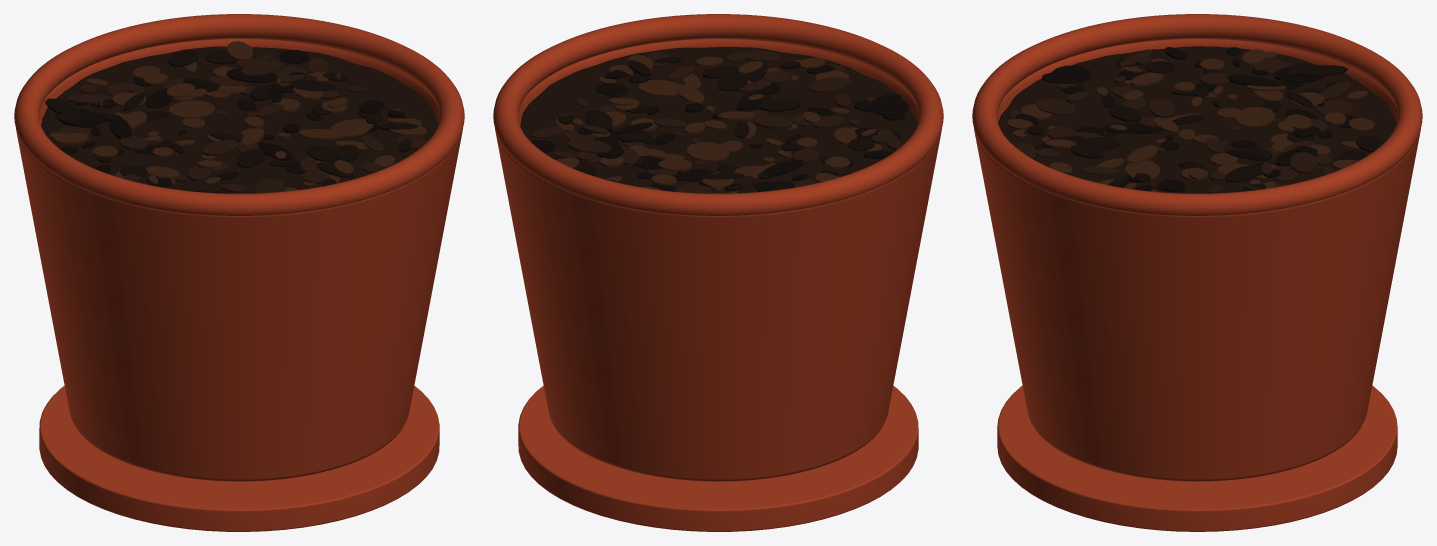
Rendered from Flower_Pot_With_Soil.obj.
3 views of the same model, side by side, from view 1: azimuth 30°, elevation 25°; view 2: azimuth 150°, elevation 25°; view 3: azimuth 270°, elevation 25° (orthographic).
Visible parts, largest first — view 1: SM_Empty_Flower_Pot_Top_Open, SM_Flower_Pot_Open_Rim, SM_Unterteller, SM_Soil_Filling, SM_Soiltextur_Fleck.183, SM_Soiltextur_Fleck.129; view 2: SM_Empty_Flower_Pot_Top_Open, SM_Flower_Pot_Open_Rim, SM_Unterteller, SM_Soil_Filling, SM_Soiltextur_Fleck.183, SM_Soiltextur_Fleck.076, SM_Soiltextur_Fleck.129, SM_Soiltextur_Fleck.164; view 3: SM_Empty_Flower_Pot_Top_Open, SM_Flower_Pot_Open_Rim, SM_Unterteller, SM_Soil_Filling, SM_Soiltextur_Fleck.183, SM_Soiltextur_Fleck.076.
Part boxes in pixels (x1,y1,x2,y2): SM_Empty_Flower_Pot_Top_Open: (16, 39, 462, 481); SM_Flower_Pot_Open_Rim: (14, 14, 464, 215); SM_Unterteller: (39, 386, 439, 531); SM_Soil_Filling: (41, 46, 438, 193); SM_Soiltextur_Fleck.183: (169, 100, 214, 118); SM_Soiltextur_Fleck.129: (330, 119, 373, 137); SM_Empty_Flower_Pot_Top_Open: (495, 39, 941, 481); SM_Flower_Pot_Open_Rim: (493, 14, 943, 215); SM_Unterteller: (518, 386, 918, 531); SM_Soil_Filling: (520, 47, 917, 193); SM_Soiltextur_Fleck.183: (687, 142, 729, 161); SM_Soiltextur_Fleck.076: (868, 98, 908, 115); SM_Soiltextur_Fleck.129: (638, 79, 679, 96); SM_Soiltextur_Fleck.164: (567, 138, 611, 154); SM_Empty_Flower_Pot_Top_Open: (974, 39, 1420, 481); SM_Flower_Pot_Open_Rim: (972, 14, 1422, 215); SM_Unterteller: (997, 385, 1397, 531); SM_Soil_Filling: (998, 46, 1396, 193); SM_Soiltextur_Fleck.183: (1235, 107, 1275, 126); SM_Soiltextur_Fleck.076: (1051, 65, 1090, 83).
Size of the model in its own units: 1.44 by 1.21 by 1.44.
